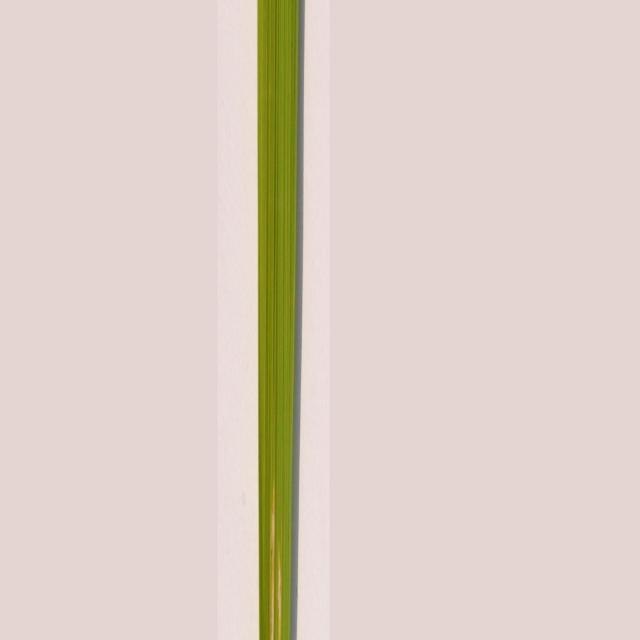leaf blight: (253, 464, 301, 640)
